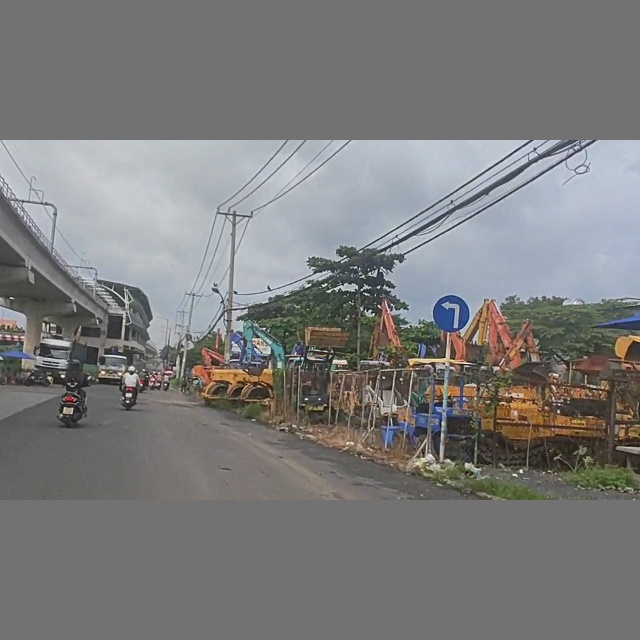R.301e: (431, 293, 470, 333)
